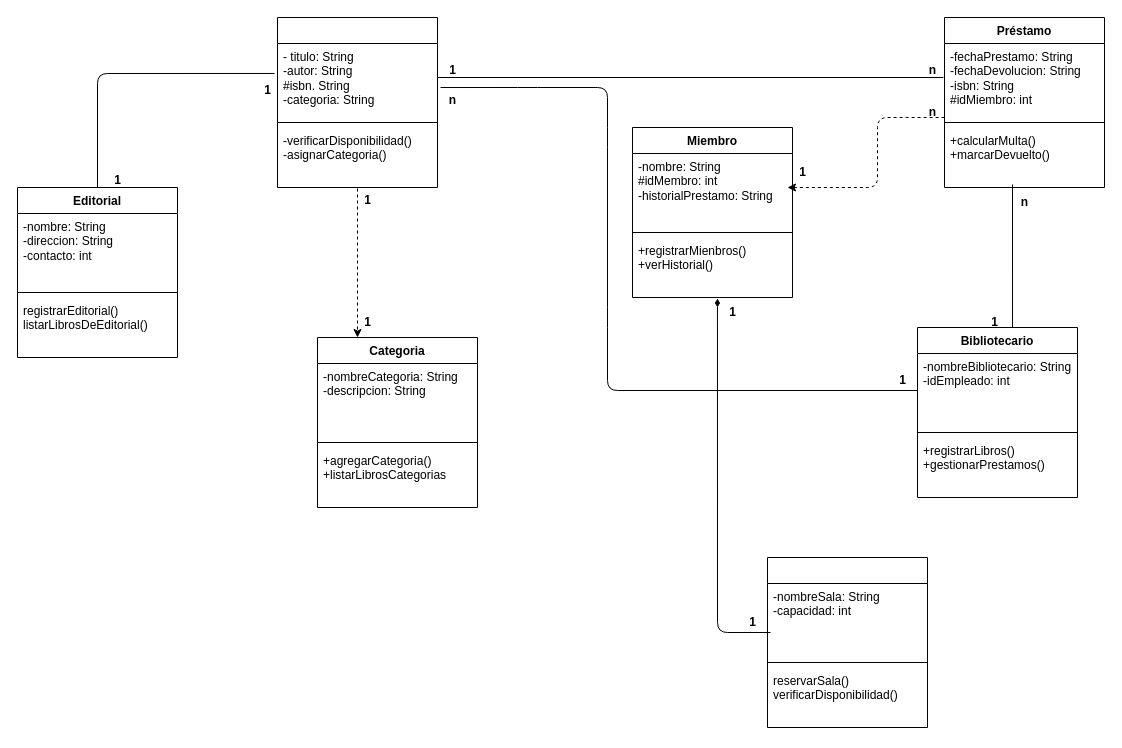
This 1122x748 diagram has some shape labels left out. The shapes that lost their labels are listed below. From the top down, each one's box as (x1, y1, x2, y2) in pixels, then its label:
(276, 16, 438, 188): Libro
(766, 556, 928, 728): Sala de lectura
